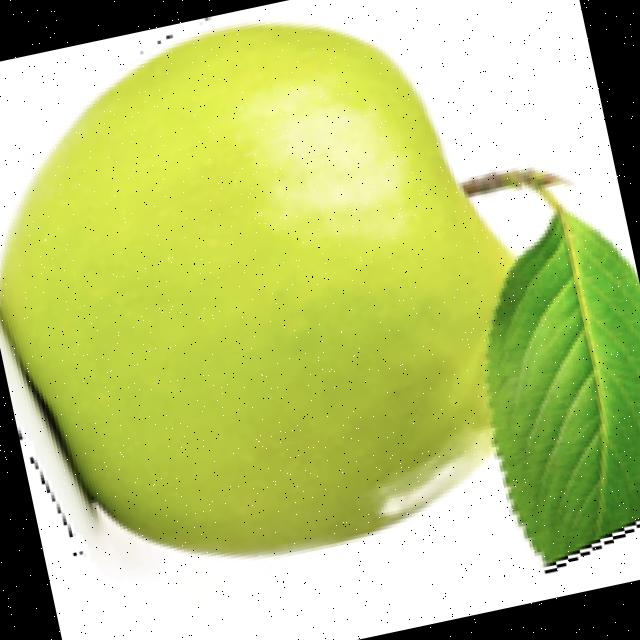apple: (0, 16, 640, 573)
